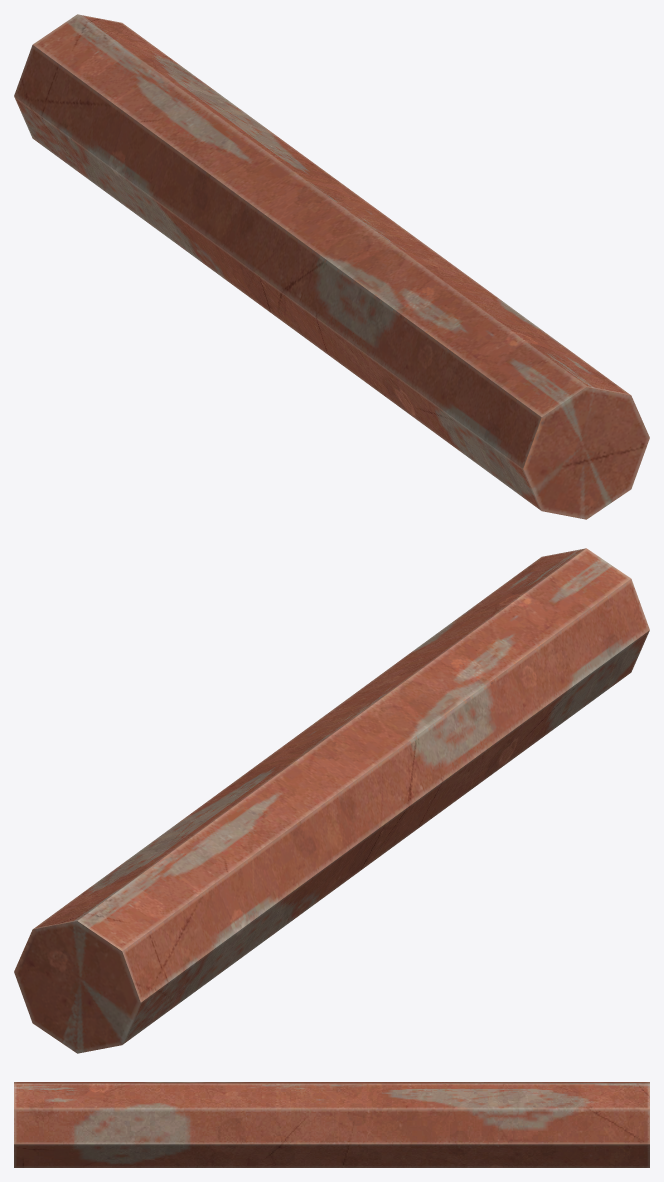
Rendered from CopperRod.glb.
3 views of the same model, one above another, from view 1: azimuth 30°, elevation 25°; view 2: azimuth 150°, elevation 25°; view 3: azimuth 270°, elevation 25° (orthographic). The views are drawn at different scales.
Parts seen in each view (by area): view 1: CopperRod; view 2: CopperRod; view 3: CopperRod.
Boxes of the visible parts, <box> form: CopperRod: <box>14,14,649,519</box>; CopperRod: <box>14,548,649,1053</box>; CopperRod: <box>14,1082,649,1167</box>.
Bounding box in the file's own units: 0.1162 × 0.1162 × 0.8081.
Materials: 1 (1 with a texture image).
